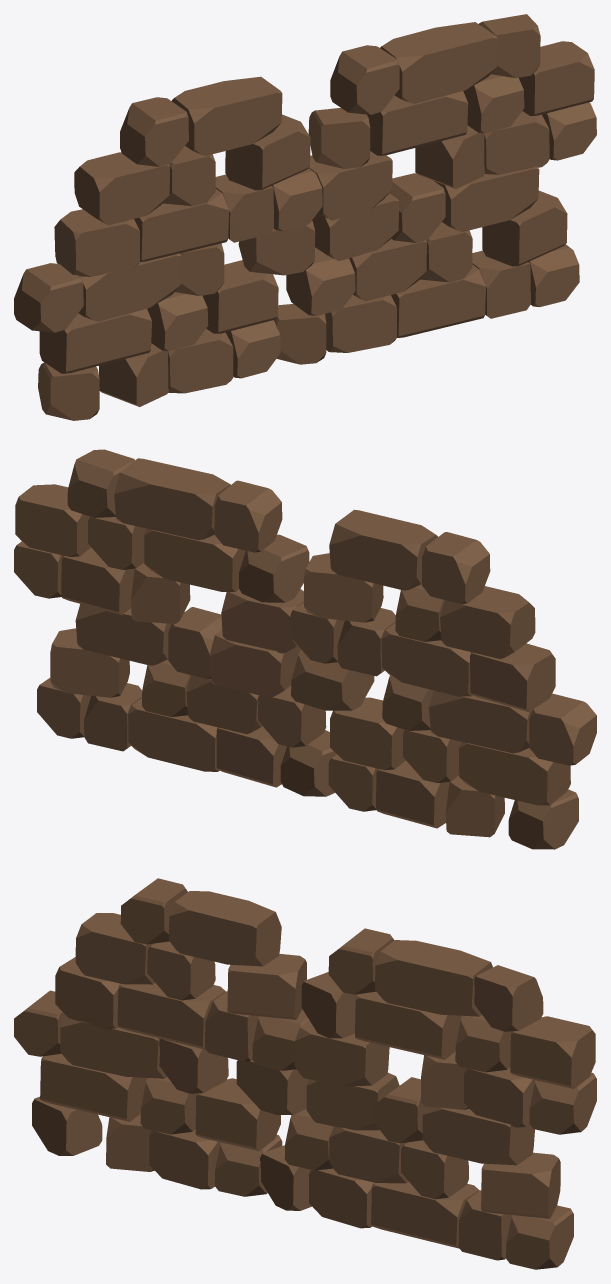
Rendered from Mali_wallB.fbx.
3 renders of one model, top to bottom at view 1: azimuth 30°, elevation 25°; view 2: azimuth 150°, elevation 25°; view 3: azimuth 330°, elevation 25°, orthographic.
Parts seen in each view (by area): view 1: Mali wallB; view 2: Mali wallB; view 3: Mali wallB.
Part boxes in pixels (<box>): Mali wallB: <box>14,14,596,420</box>; Mali wallB: <box>14,449,596,849</box>; Mali wallB: <box>14,878,596,1269</box>.
Bounding box in the file's own units: 562 × 268 × 60.85.
1 material, 1 textured.
